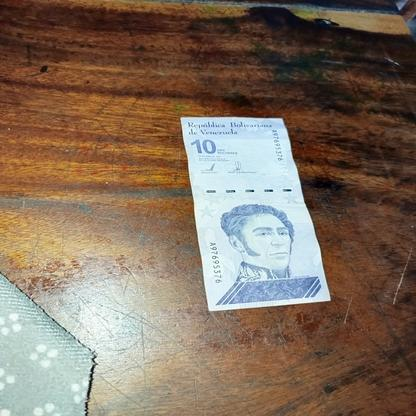ten-front-vef: (180, 116, 334, 314)
